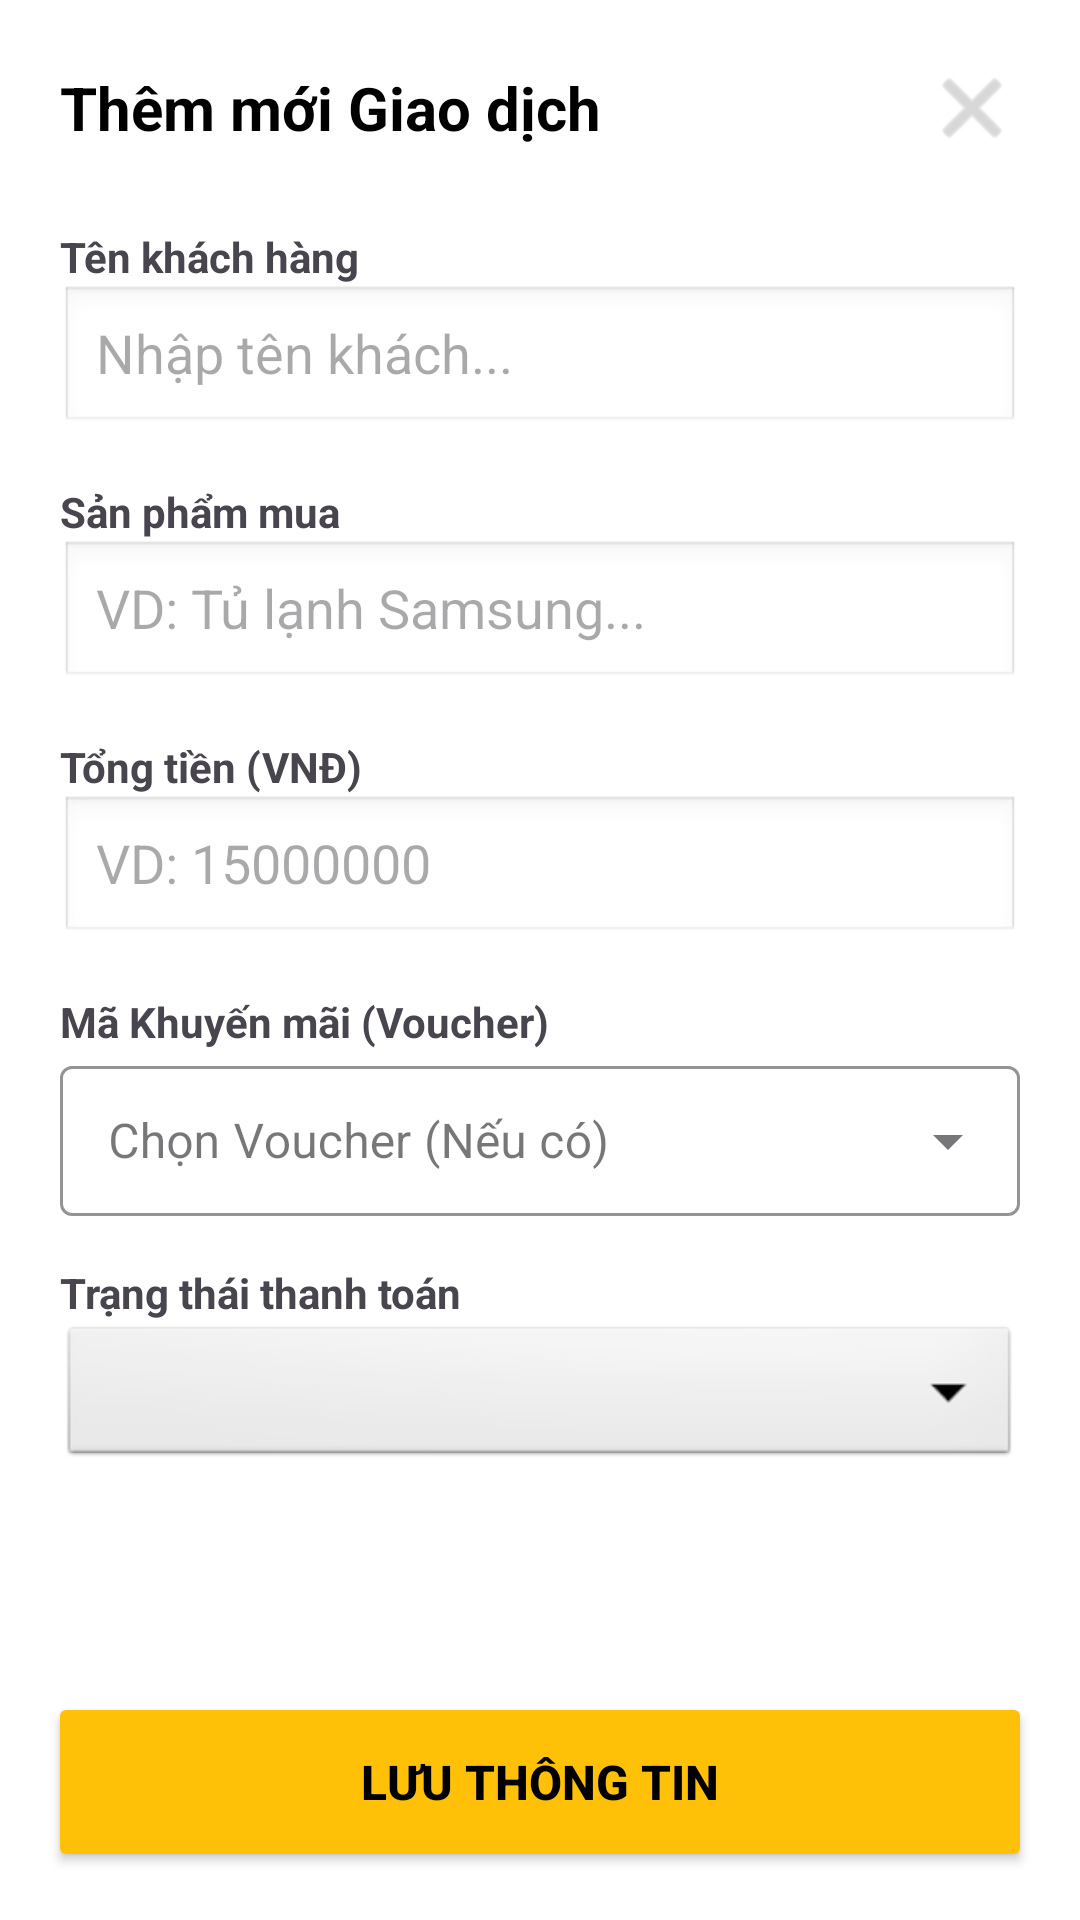

Screen size 1080×1920. Icon name, then its box in pixels as {"x1": x1, "y1": y1, "x2": x2, "y2": y2}:
close clear cancel: {"x1": 944, "y1": 80, "x2": 1000, "y2": 136}
